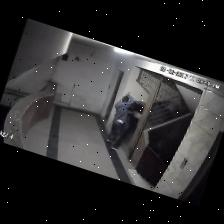person: (107, 93, 135, 149)
